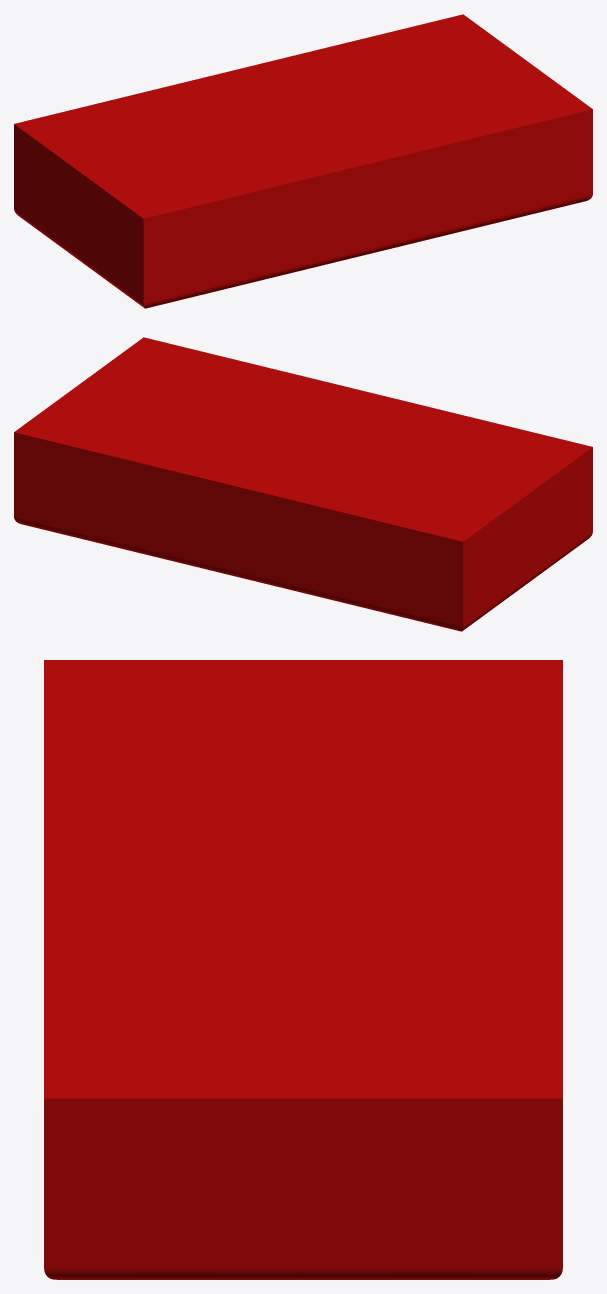
The model's file is panel informativo.fbx.
3 renders of one model, top to bottom at view 1: azimuth 30°, elevation 25°; view 2: azimuth 150°, elevation 25°; view 3: azimuth 270°, elevation 25°, orthographic. The views are drawn at different scales.
Visible parts, largest first — view 1: Body1; view 2: Body1; view 3: Body1.
Boxes of the visible parts, bbox=[...] form: Body1: bbox=[14, 14, 592, 308]; Body1: bbox=[14, 337, 592, 631]; Body1: bbox=[44, 660, 562, 1279].
Bounding box in the file's own units: 50 × 10 × 25.
